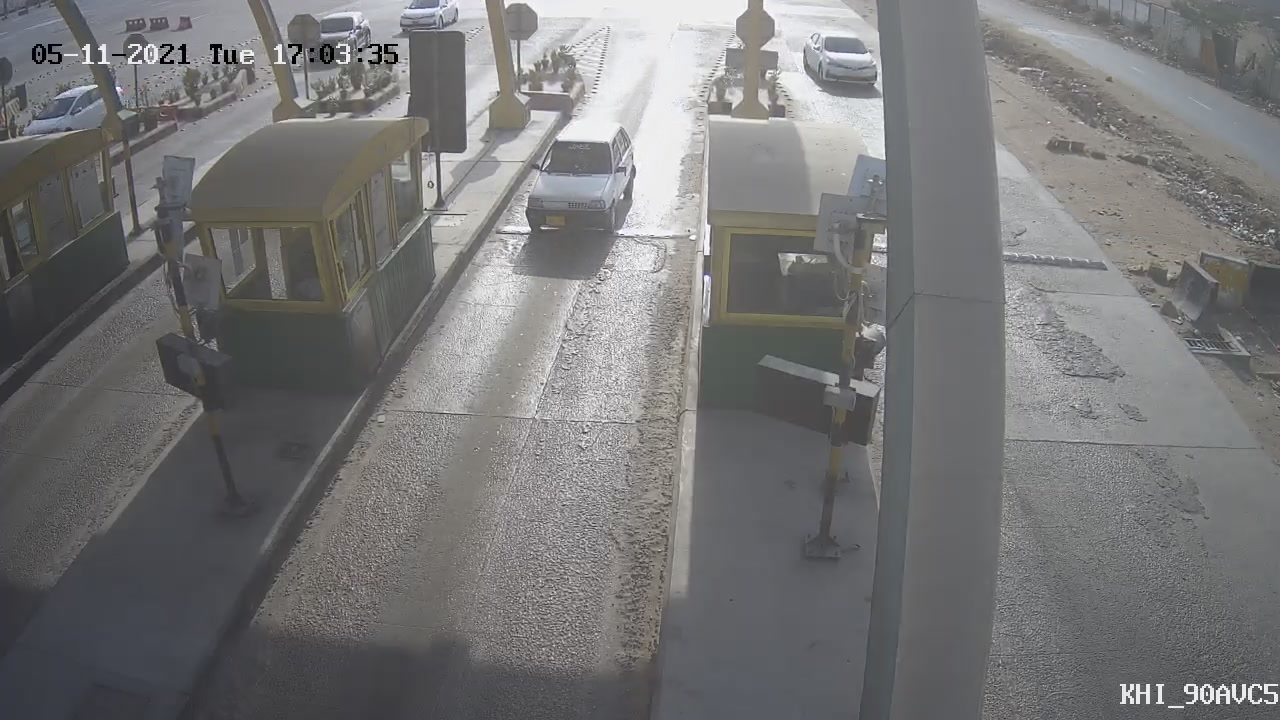F1: (504, 103, 653, 270)
